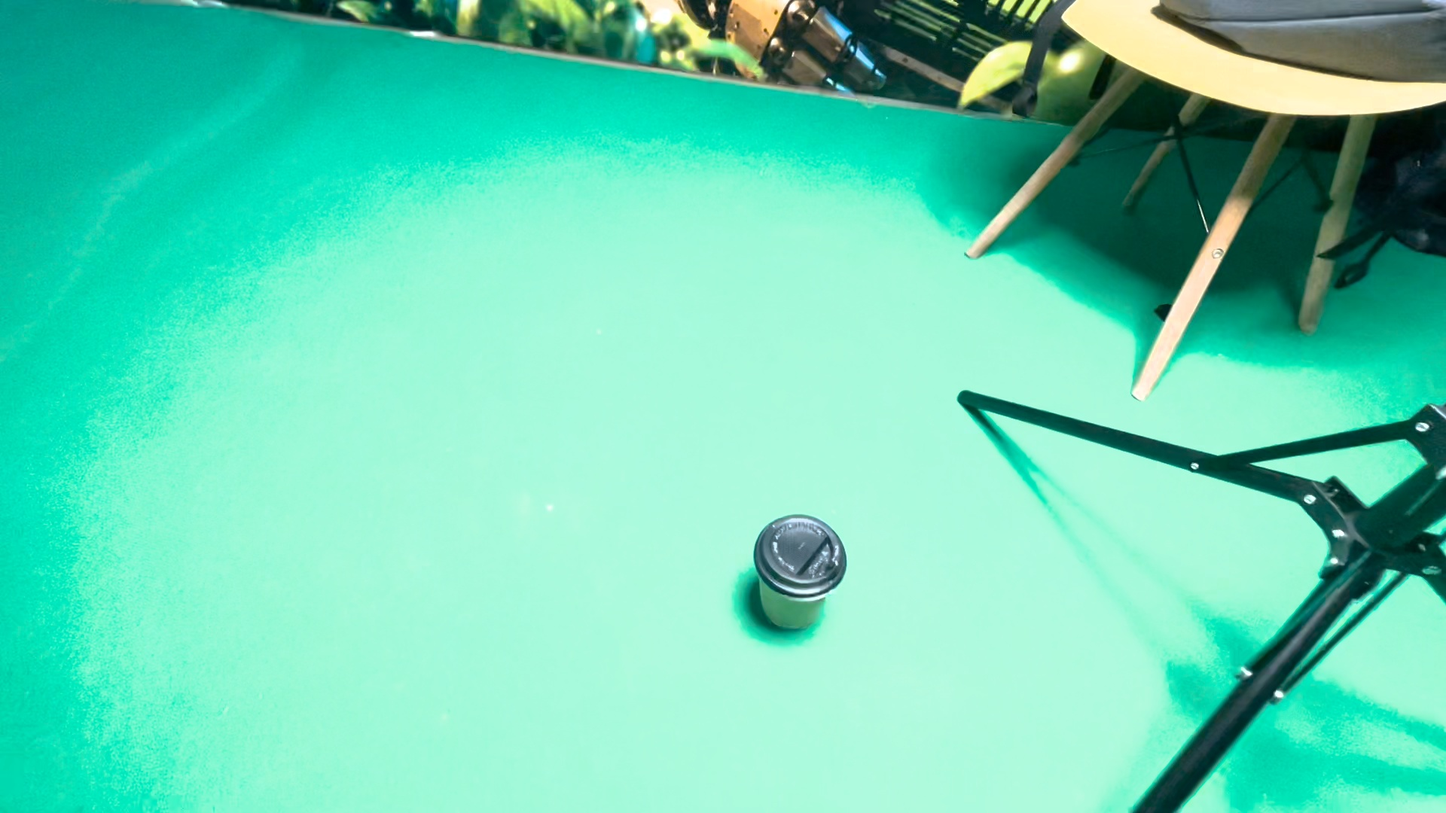cup: (694, 436, 817, 614)
